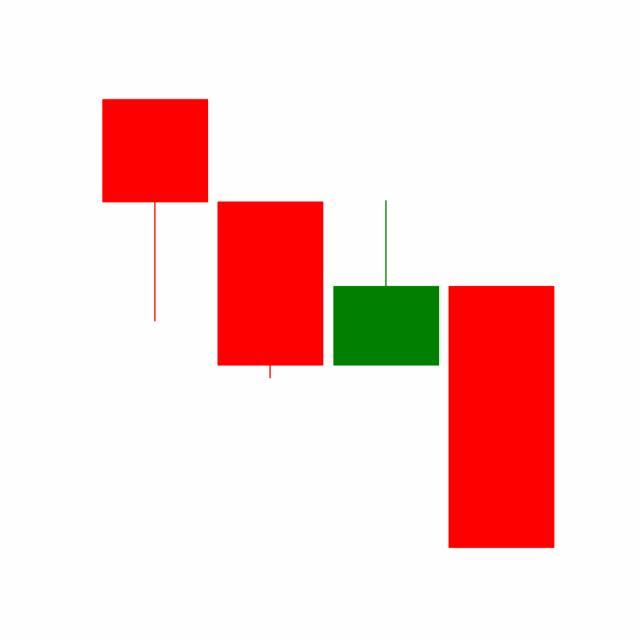Marubozu: (444, 284, 560, 551)
